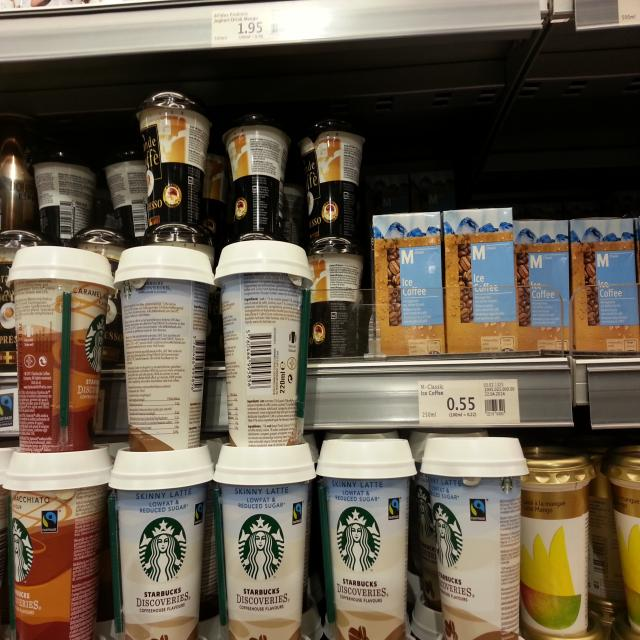Coffee: (6, 247, 118, 453), (421, 435, 529, 640), (2, 444, 112, 640), (213, 238, 314, 448), (114, 245, 216, 452), (109, 445, 214, 640), (215, 440, 317, 640), (317, 438, 417, 640), (443, 207, 518, 353), (373, 211, 446, 354), (134, 91, 210, 226), (569, 218, 640, 351), (222, 114, 292, 240), (298, 119, 366, 236), (512, 220, 570, 351), (306, 237, 364, 358)
Milk: (521, 445, 597, 637), (599, 445, 640, 635)
